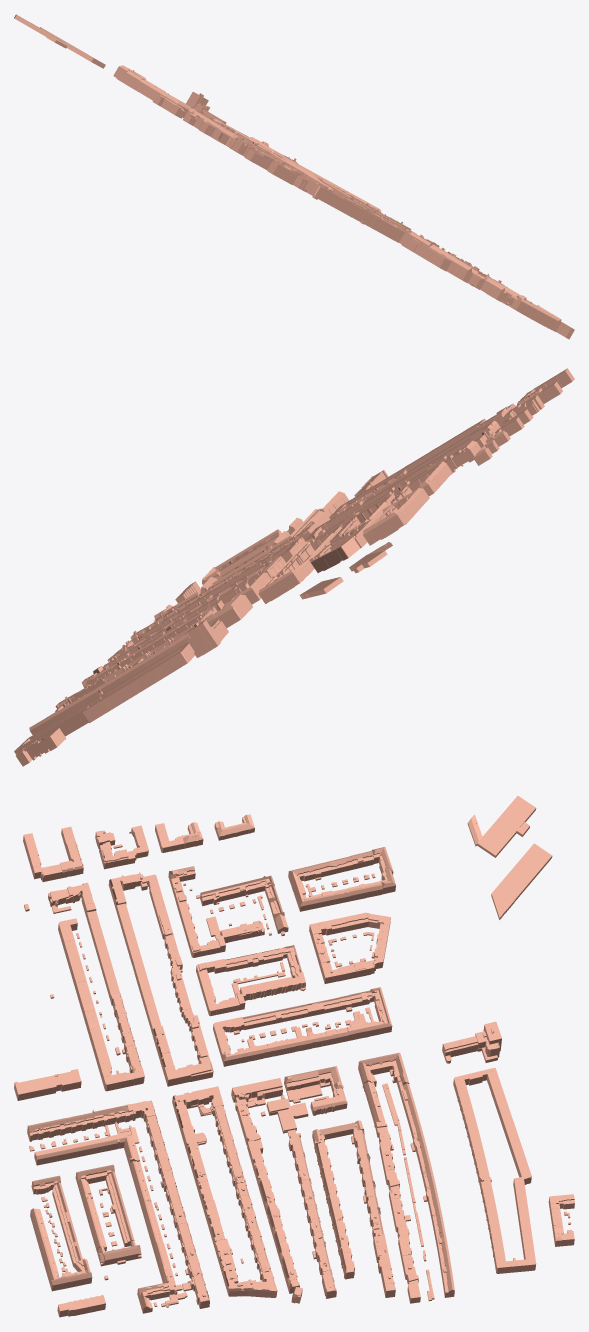
3 views of the same model, one above another, from view 1: azimuth 30°, elevation 25°; view 2: azimuth 150°, elevation 25°; view 3: azimuth 270°, elevation 25° (orthographic). The views are drawn at different scales.
Size of the model in its own units: 1.81e+07 by 1.27e+07 by 2.05e+07.
